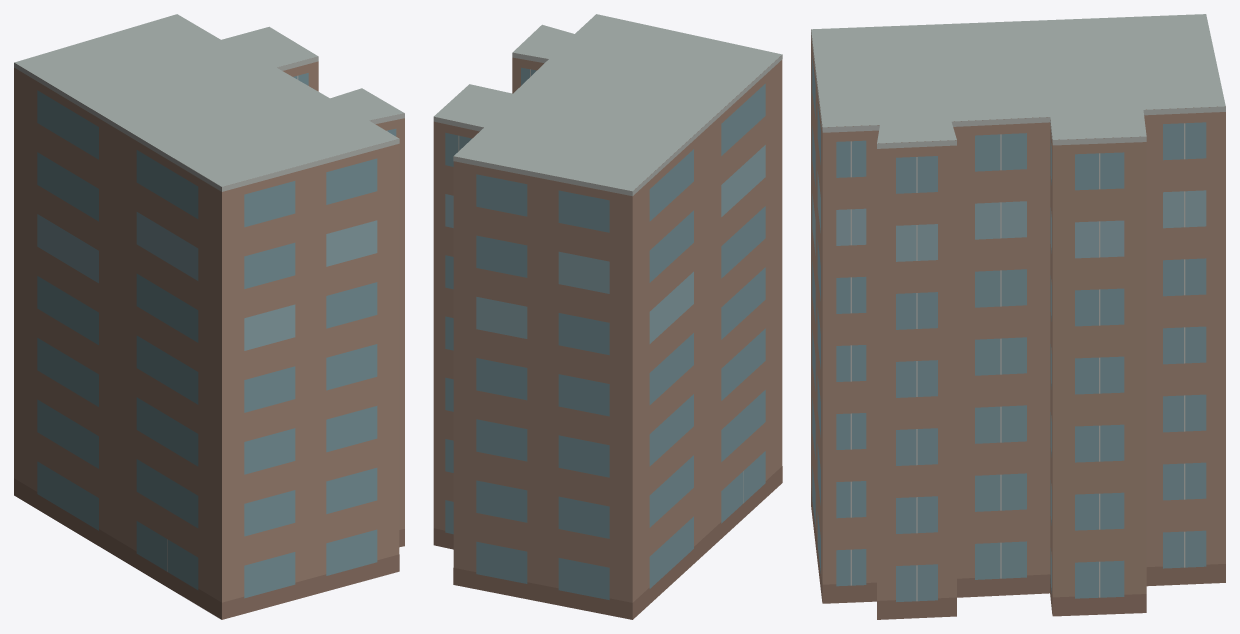
The model's file is survey-upis-32668459.glb.
3 views of the same model, side by side, from view 1: azimuth 30°, elevation 25°; view 2: azimuth 150°, elevation 25°; view 3: azimuth 270°, elevation 25° (orthographic). The views are drawn at different scales.
Parts seen in each view (by area): view 1: survey-upis-32668459.tmp; view 2: survey-upis-32668459.tmp; view 3: survey-upis-32668459.tmp.
Part boxes in pixels (bbox=[...]): survey-upis-32668459.tmp: bbox=[14, 14, 404, 619]; survey-upis-32668459.tmp: bbox=[433, 14, 782, 619]; survey-upis-32668459.tmp: bbox=[811, 14, 1225, 619].
Size of the model in its own units: 12.37 by 21.2 by 16.74.
